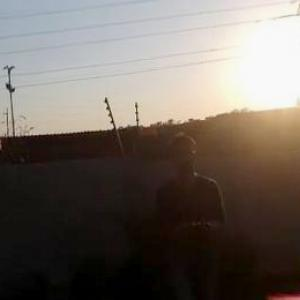follow: (146, 123, 228, 299)
